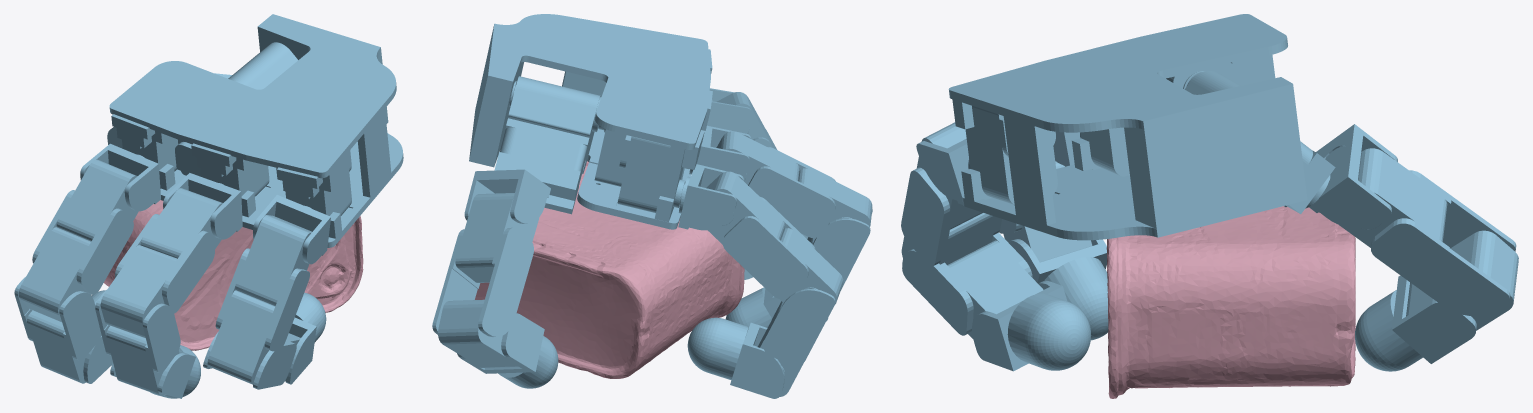
The picture shows the model from 3 angles, left to right: view 1: azimuth 30°, elevation 25°; view 2: azimuth 150°, elevation 25°; view 3: azimuth 270°, elevation 25°; orthographic projection. The views are drawn at different scales.
Visible parts, largest first — view 1: world; view 2: world; view 3: world.
Part boxes in pixels (x1=…): world: x1=14, y1=14, x2=403, y2=398; world: x1=432, y1=14, x2=872, y2=398; world: x1=901, y1=14, x2=1518, y2=398.
Bounding box in the file's own units: 0.1835 × 0.1361 × 0.2072.
